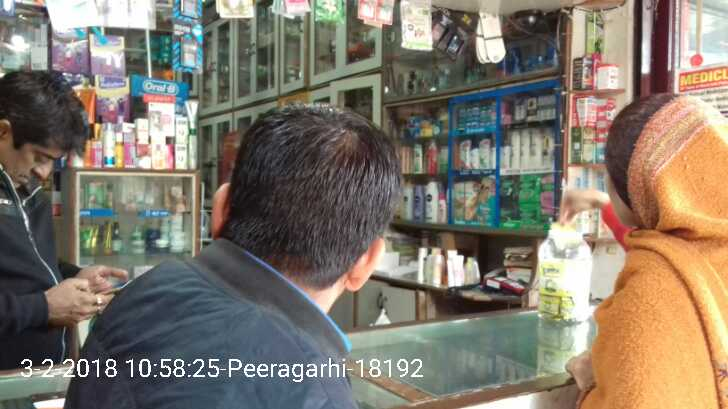vicks: (456, 102, 497, 129)
